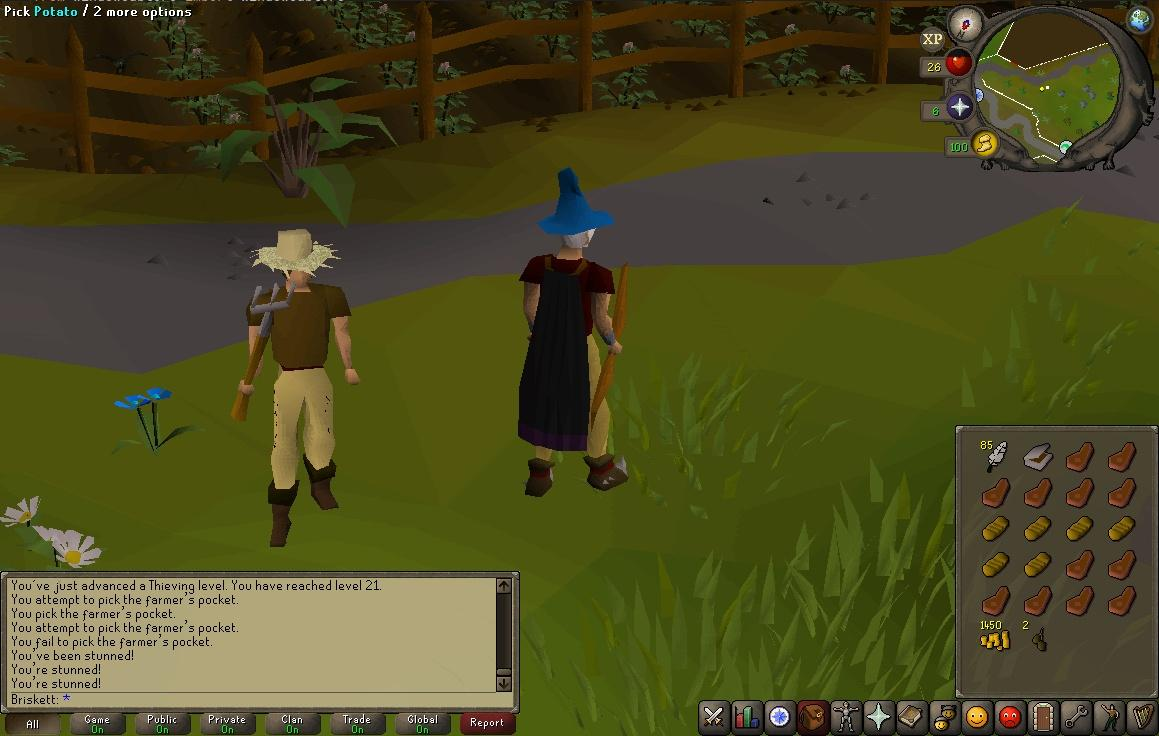Farmer: (232, 228, 361, 548)
